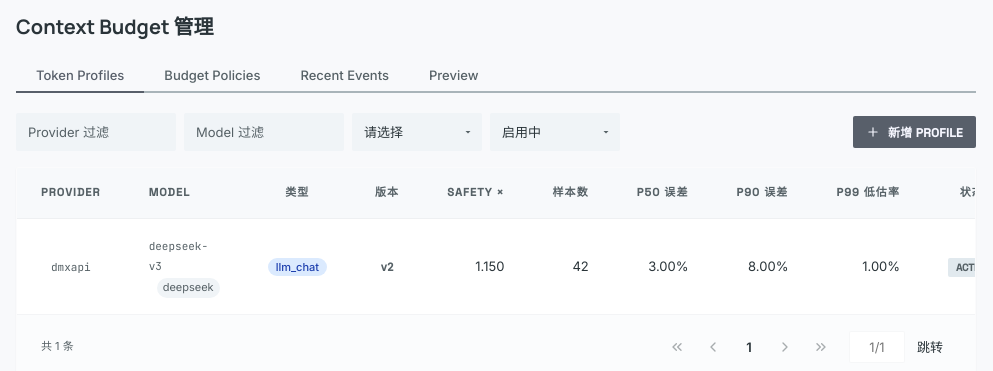
Scenario: renders recent event rows without prompt content › renders recent event rows without prompt content
Click the tab with class "tab-btn" showing "Recent Events" at (345, 76), box [280,59,409,93]
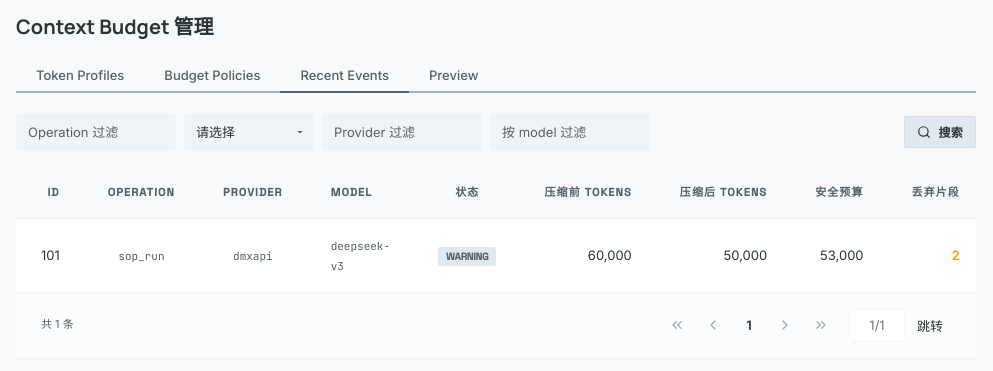
Expected: the text "dmxapi" is shown, [233,249,273,263]
Now the text "sop_run" is shown, box [118,249,164,263]
